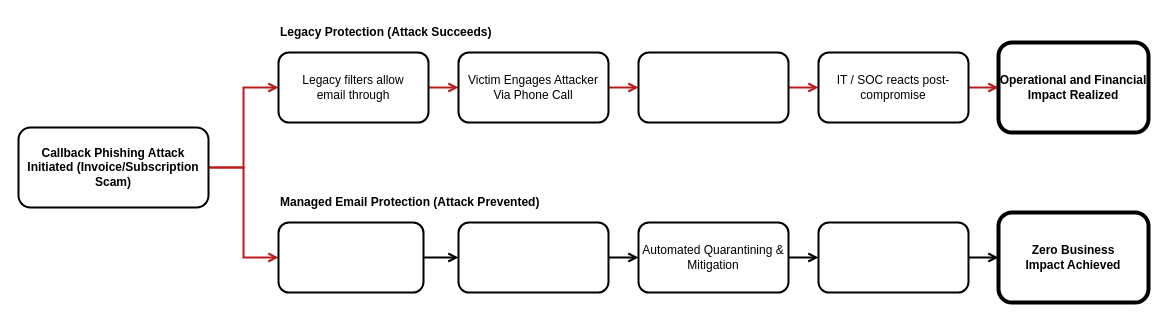
The diagram is 1167 pixels wide and 321 high, and some of its shapes have lost their labels. Each missing label, with the centre of its shape:
Attacker steals Credentials/MFA Token or Deploys Remote Access Tool (RAT): the point at 713,87
Behavioral Engine Detects Callback Phishing Pattern (Urgency, Call-to-Action): the point at 533,257
Email Analysed by Managed Email Service: the point at 350,257
Zero-User Interaction Mitigation Achieved: the point at 893,257
